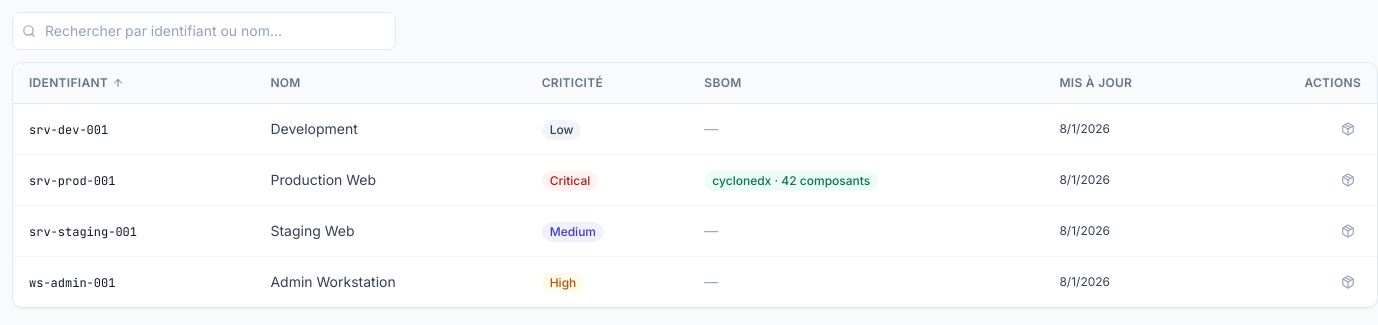
Test case: AssetsTable › signale une recherche sans résultat
The width and height of the screenshot is (1378, 325).
Type "zzz" into the field named "Rechercher un asset" at (204, 31), box [12,12,396,50]
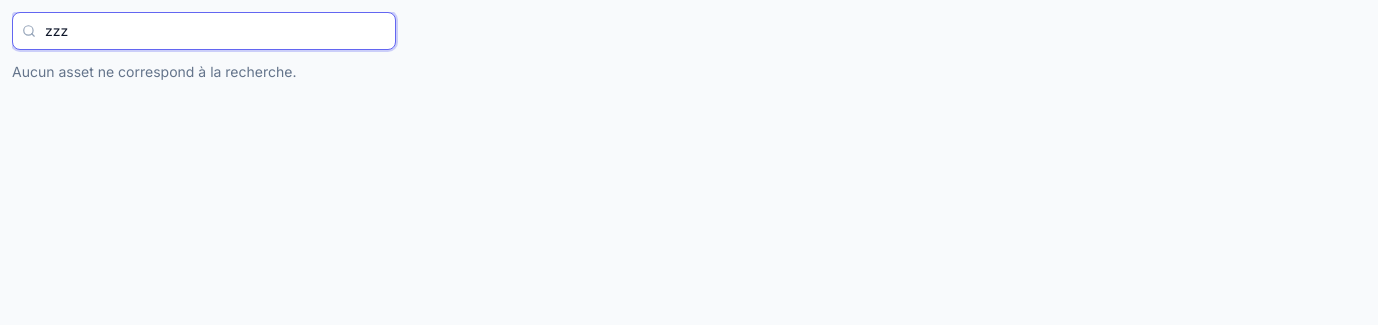
Now the text "Aucun asset ne correspond à la recherche." is shown, box [12,63,296,80]
